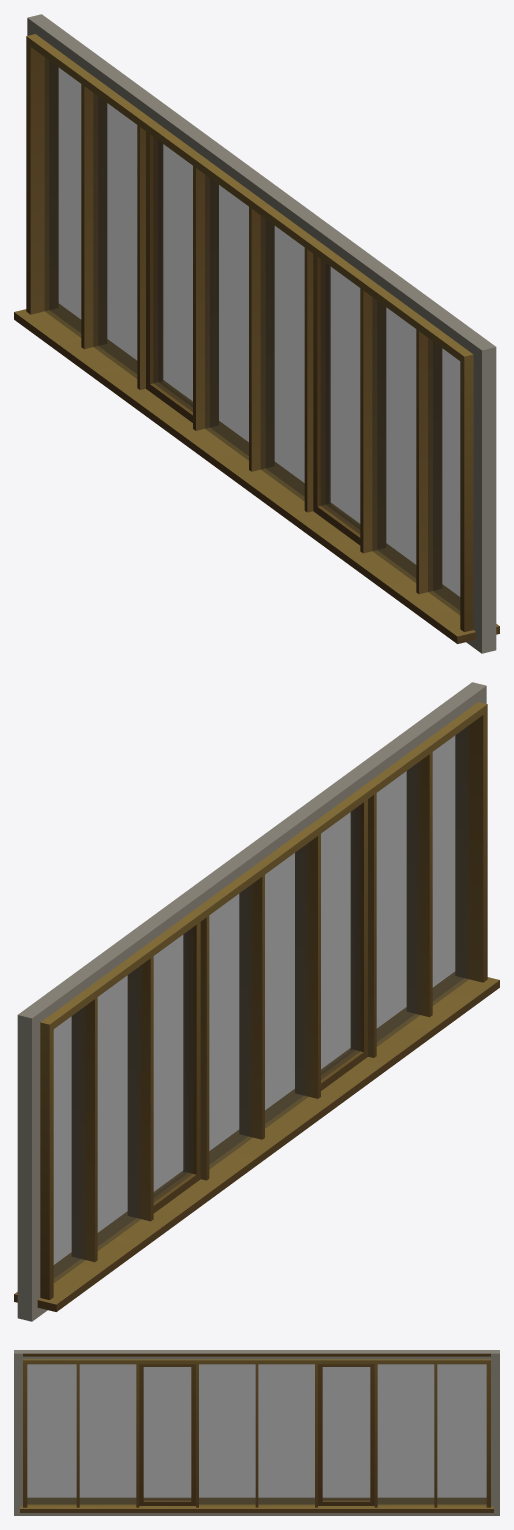
File: TSP_House_Wall_Regular_04A.fbx
3 renders of one model, top to bottom at view 1: azimuth 30°, elevation 25°; view 2: azimuth 150°, elevation 25°; view 3: azimuth 270°, elevation 25°, orthographic. The views are drawn at different scales.
Parts seen in each view (by area): view 1: TSP_House_Wall_Regular_04A, TSP_House_Wall_Regular_04A_Window.L, TSP_House_Wall_Regular_04A_Window.R; view 2: TSP_House_Wall_Regular_04A, TSP_House_Wall_Regular_04A_Window.R, TSP_House_Wall_Regular_04A_Window.L; view 3: TSP_House_Wall_Regular_04A, TSP_House_Wall_Regular_04A_Window.R, TSP_House_Wall_Regular_04A_Window.L.
Boxes of the visible parts, <box> form: TSP_House_Wall_Regular_04A: <box>14,14,499,653</box>; TSP_House_Wall_Regular_04A_Window.L: <box>313,254,360,545</box>; TSP_House_Wall_Regular_04A_Window.R: <box>146,131,192,422</box>; TSP_House_Wall_Regular_04A: <box>14,682,499,1321</box>; TSP_House_Wall_Regular_04A_Window.R: <box>153,922,200,1213</box>; TSP_House_Wall_Regular_04A_Window.L: <box>321,799,367,1090</box>; TSP_House_Wall_Regular_04A: <box>14,1350,499,1515</box>; TSP_House_Wall_Regular_04A_Window.R: <box>318,1364,374,1505</box>; TSP_House_Wall_Regular_04A_Window.L: <box>139,1364,195,1505</box>.
Bounding box in the file's own units: 0.44 × 3 × 8.15.
